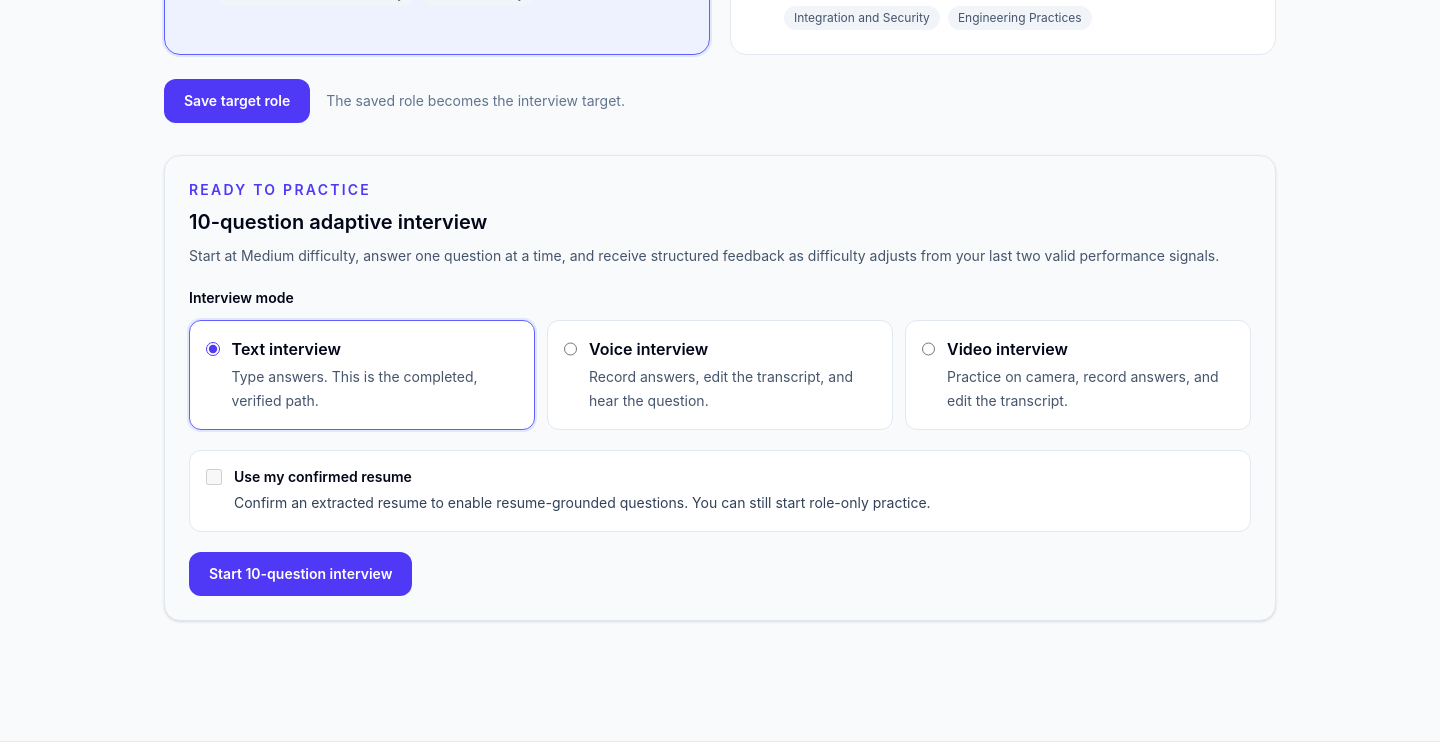
Test: Phase 3 interview pages › shows both consent controls and starts Video mode with camera and microphone consent
This screenshot has width=1440, height=752.
(page scrolled)
Click the radio button labelled "Video interview" at (928, 349), box [922,341,935,357]
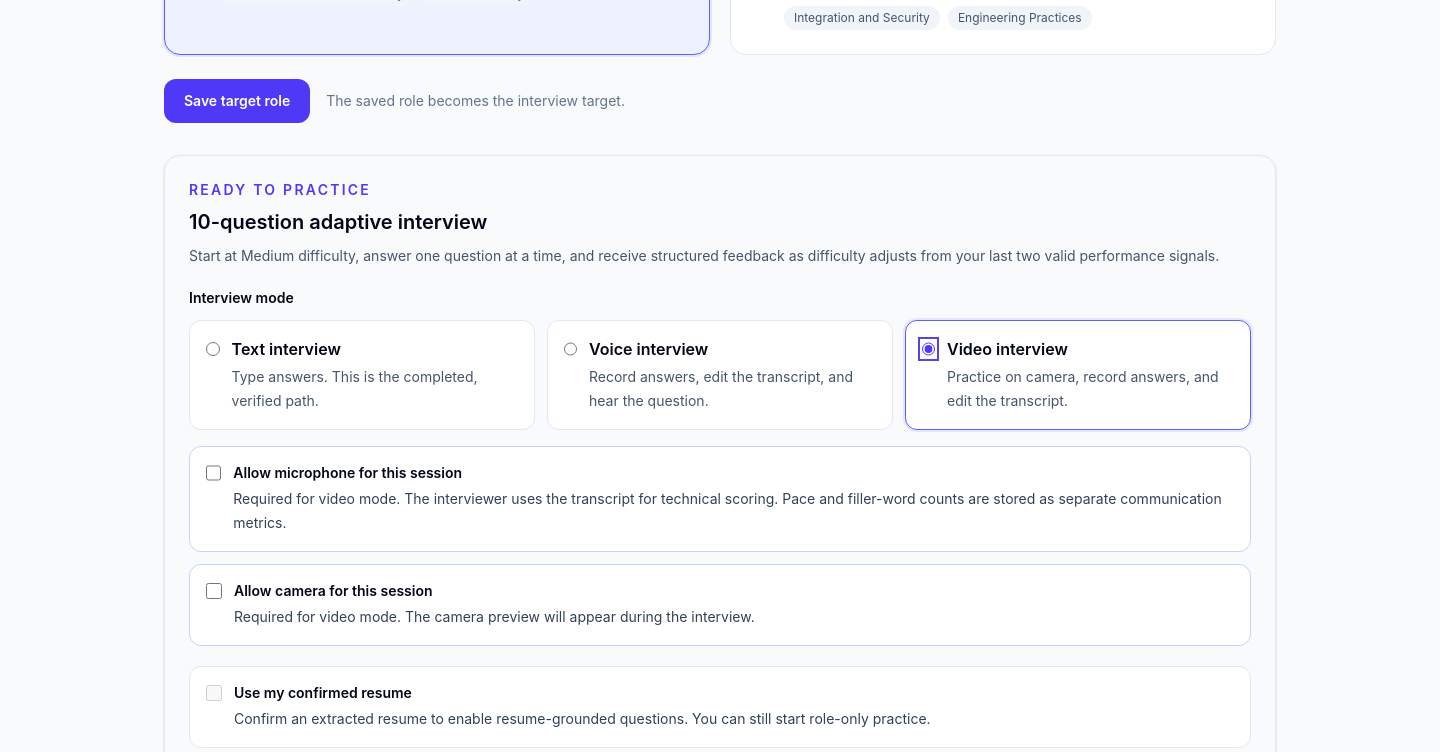
Click the checkbox labelled "Allow microphone" at (214, 473), box [206,465,221,481]
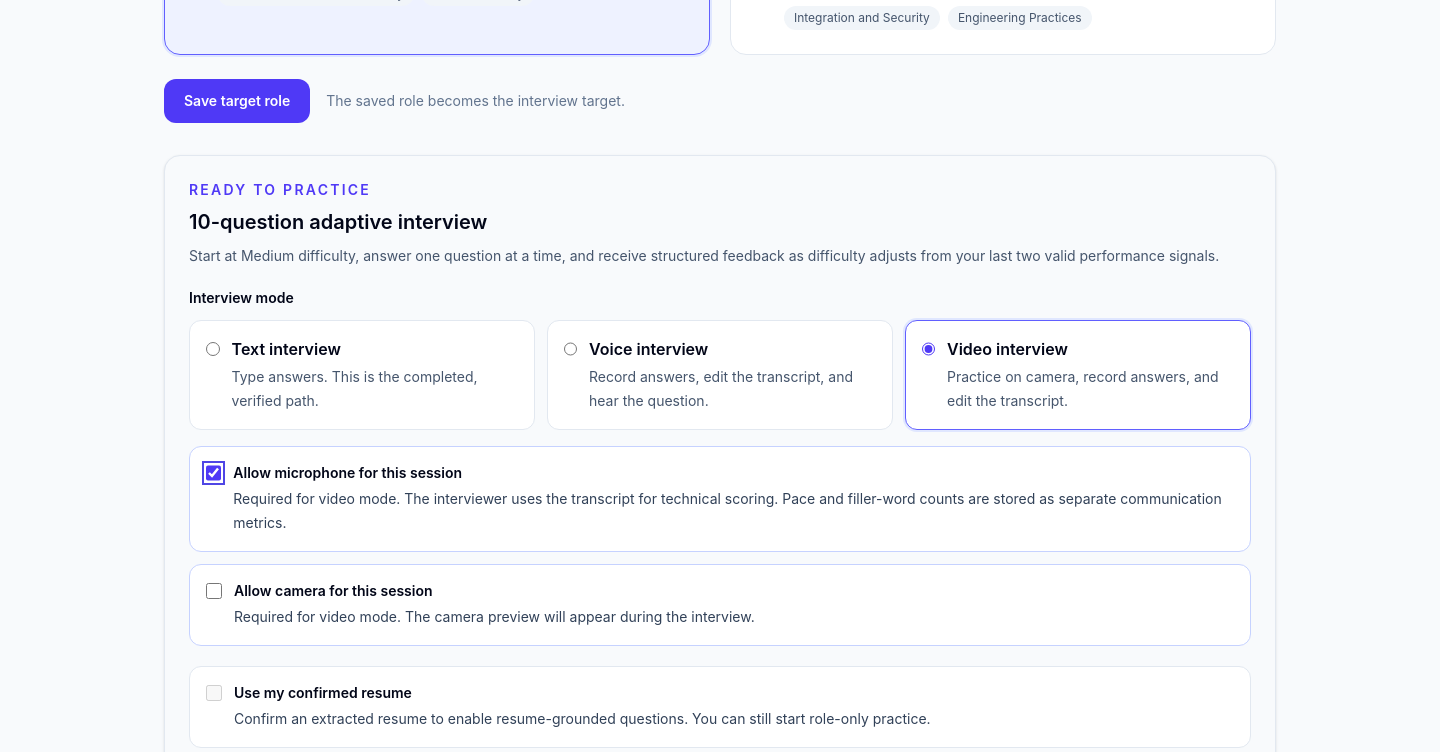
Click the checkbox labelled "Allow camera" at (214, 591), box [206,583,222,599]
(page scrolled)
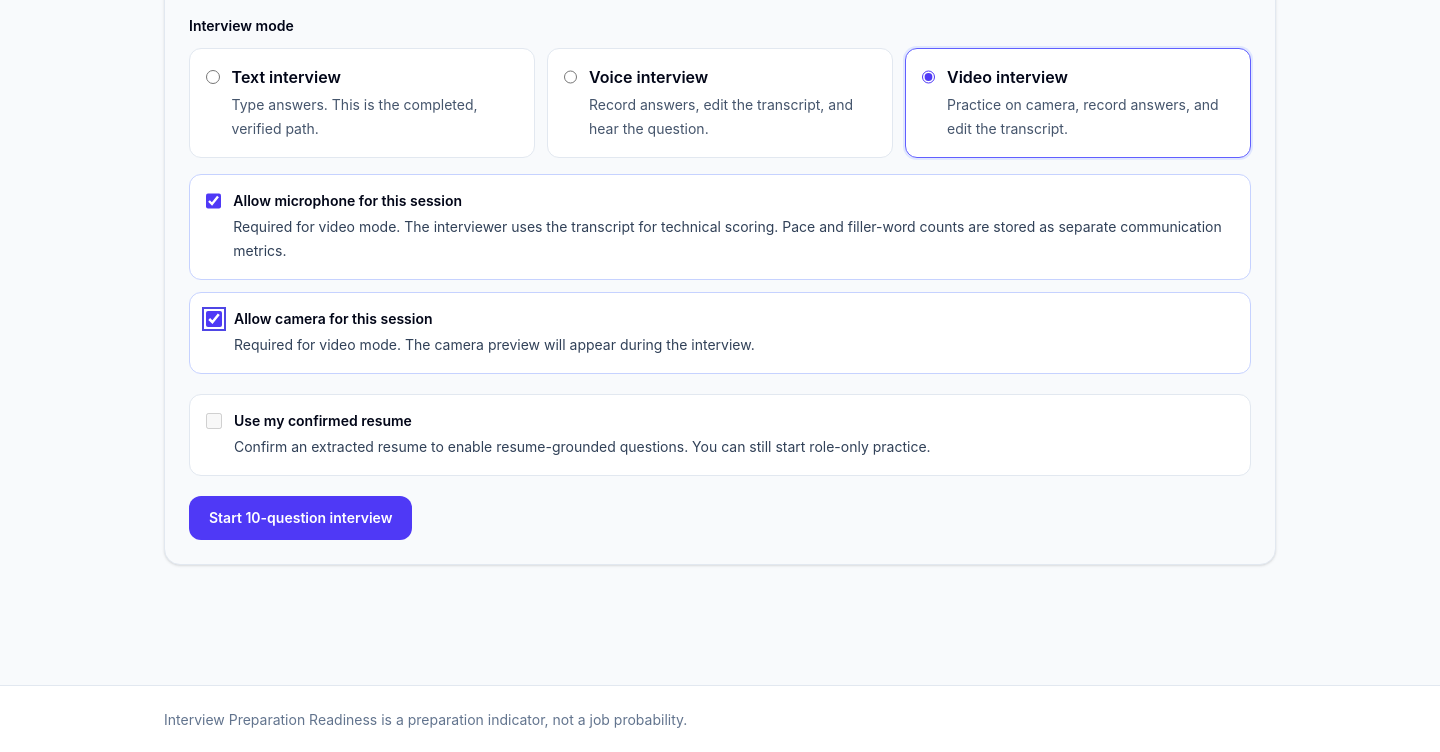
expect the button "Start 10-question interview" is enabled: met
Click the button "Start 10-question interview" at (301, 518), box [189,496,412,540]
(page scrolled)
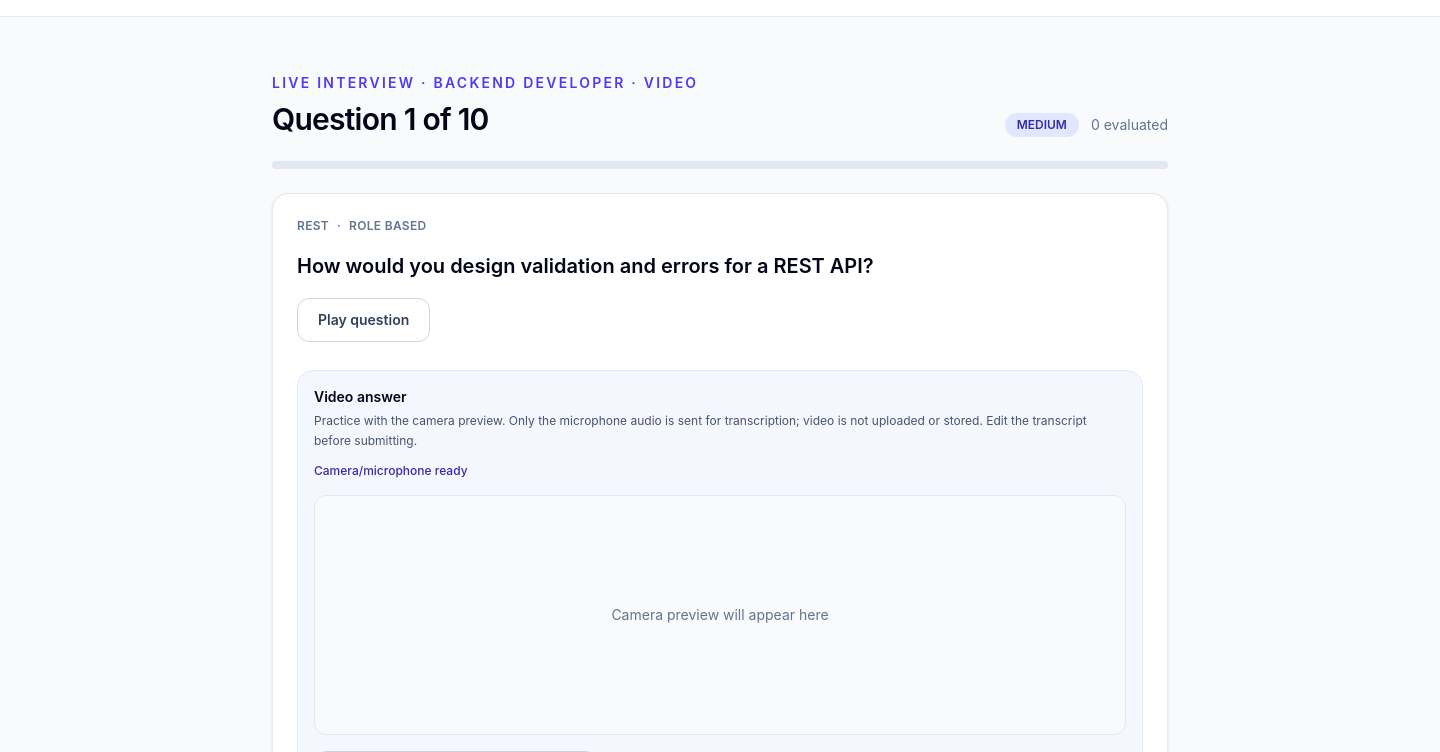
expect the heading "How would you design validation and errors for a REST API?" is shown: met, box [297,254,874,278]
